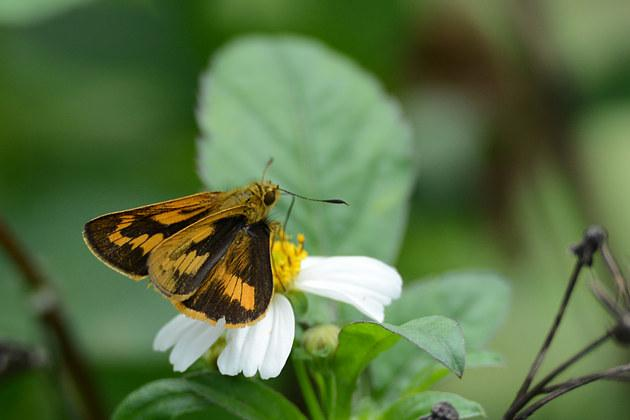Hesperiidae: (85, 156, 347, 331)
